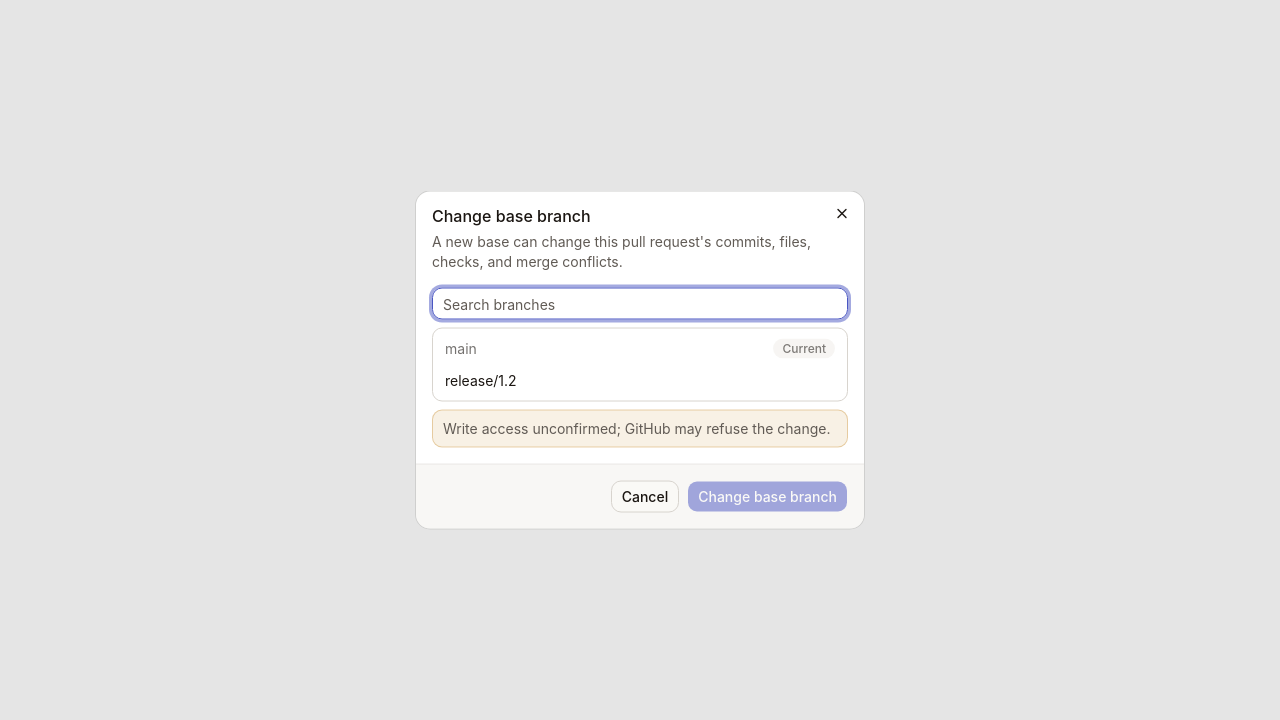
Test: ChangeBaseBranchDialog › leaves the confirm enabled with a warning when permission is unknown
What coordinates should you click on to do the following:
click the option "release/1.2"
I would click on:
 (481, 380)
Its box is [445, 372, 517, 388].
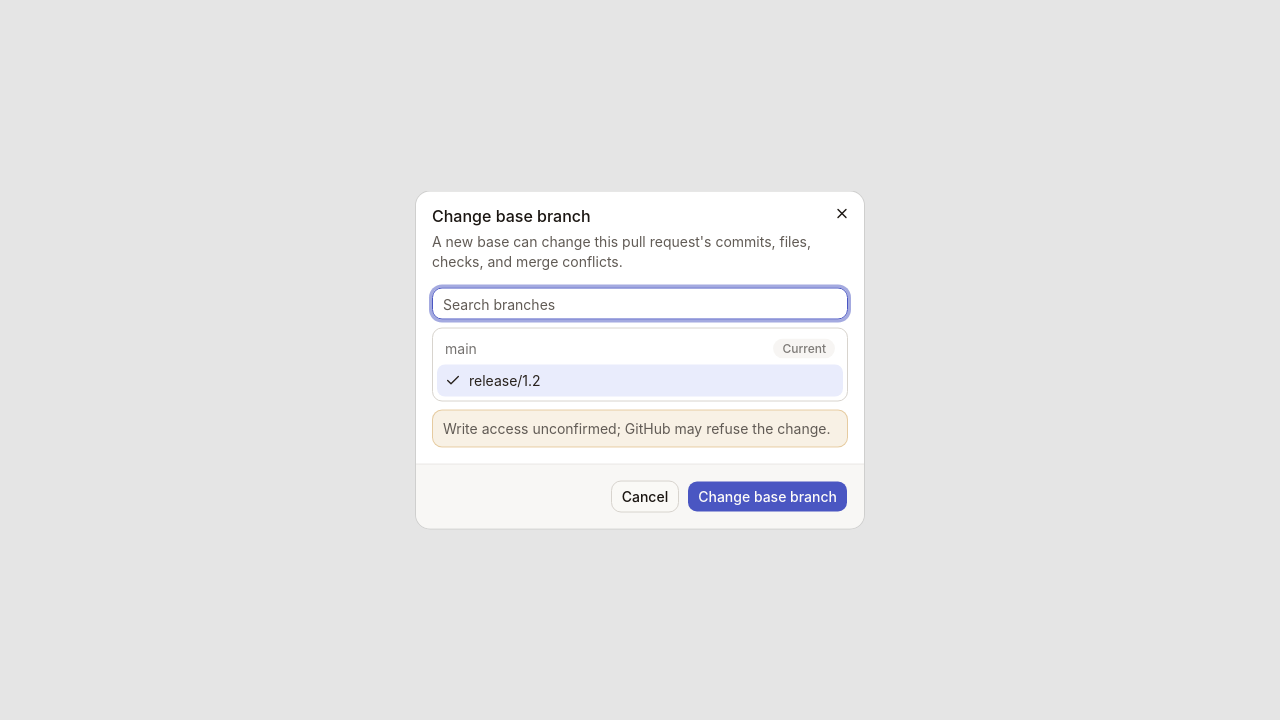
Expected: the number of messages is 1, [432, 410, 848, 448]
Now the button "Change base branch" is enabled, box [687, 480, 848, 512]
